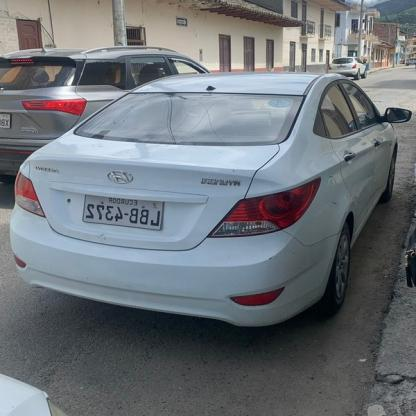Placa: (77, 194, 169, 227)
